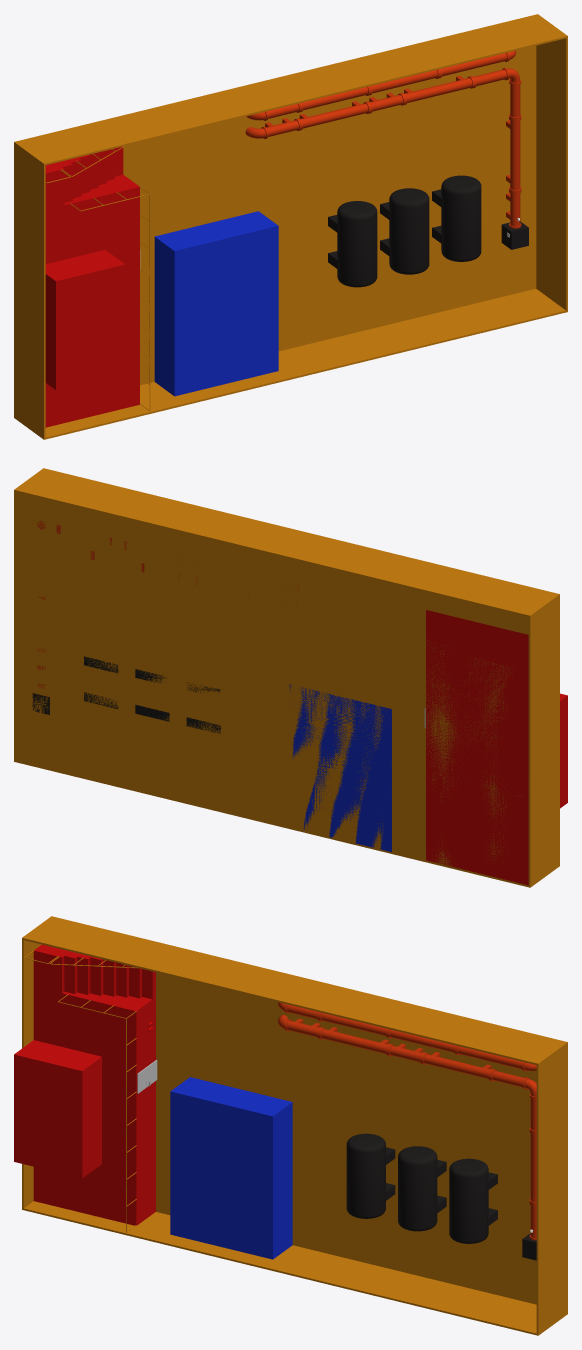
Rendered from H2Mare.obj.
3 renders of one model, top to bottom at view 1: azimuth 30°, elevation 25°; view 2: azimuth 150°, elevation 25°; view 3: azimuth 330°, elevation 25°, orthographic.
Parts seen in each view (by area): view 1: Cube, 立方体, 立方体.013, 立方体.002, 立方体.004, 立方体.003, 柱体.001, 柱体.002, 柱体.003, 立方体.001, pipe_B.004, pipe_A.003 (+5 smaller); view 2: Cube, 立方体, 立方体.002, 立方体.001, 立方体.003, 立方体.004, 立方体.013; view 3: Cube, 立方体, 立方体.013, 立方体.004, 立方体.002, 立方体.003, 立方体.001, 柱体.002, 柱体.003, 柱体.001, pipe_B.004, pipe_B.001 (+2 smaller).
Boxes of the visible parts, x1,y1,x2,y2 form: Cube: [14, 14, 567, 439]; 立方体: [45, 174, 139, 427]; 立方体.013: [45, 250, 125, 390]; 立方体.002: [154, 228, 209, 396]; 立方体.004: [224, 211, 278, 379]; 立方体.003: [189, 219, 243, 387]; 柱体.001: [389, 188, 429, 274]; 柱体.002: [337, 201, 377, 287]; 柱体.003: [441, 175, 481, 261]; 立方体.001: [45, 146, 123, 209]; pipe_B.004: [300, 52, 509, 112]; pipe_A.003: [471, 68, 521, 119]; Cube: [14, 468, 559, 887]; 立方体: [426, 645, 528, 885]; 立方体.002: [357, 701, 391, 851]; 立方体.001: [426, 610, 528, 670]; 立方体.003: [323, 693, 357, 843]; 立方体.004: [289, 684, 323, 830]; 立方体.013: [560, 693, 567, 808]; Cube: [22, 916, 567, 1335]; 立方体: [33, 986, 155, 1225]; 立方体.013: [14, 1040, 101, 1178]; 立方体.004: [238, 1093, 292, 1259]; 立方体.002: [170, 1077, 223, 1242]; 立方体.003: [204, 1085, 257, 1250]; 立方体.001: [33, 944, 155, 999]; 柱体.002: [346, 1133, 385, 1218]; 柱体.003: [449, 1158, 488, 1243]; 柱体.001: [398, 1146, 437, 1231]; pipe_B.004: [319, 1012, 527, 1071]; pipe_B.001: [421, 1052, 493, 1080].
Size of the model in its own units: 30.2 by 15.2 by 4.
